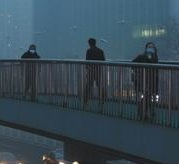person: (130, 41, 162, 120), (84, 37, 107, 106), (18, 43, 42, 103)
